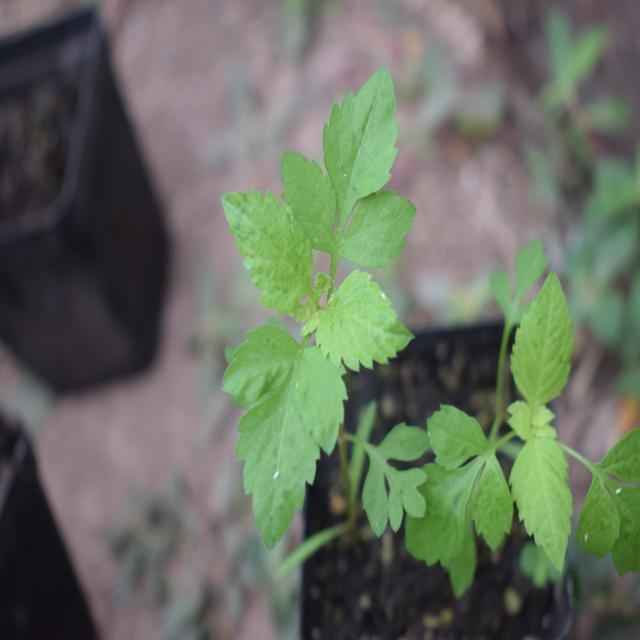Bidens pilosa: (366, 228, 635, 590), (229, 75, 435, 542)
